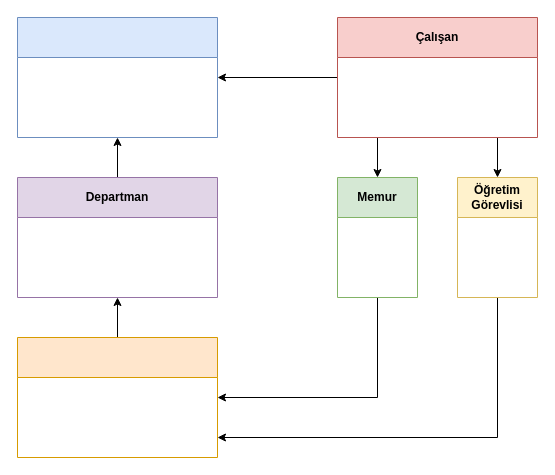
This 555x475 diagram has some shape labels left out. Each missing label, with the box of its shape:
Ofis: (16, 336, 218, 458)
Üniversite: (16, 16, 218, 138)
